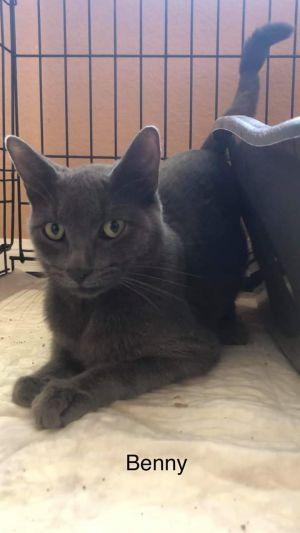rblue: (1, 114, 189, 316)
